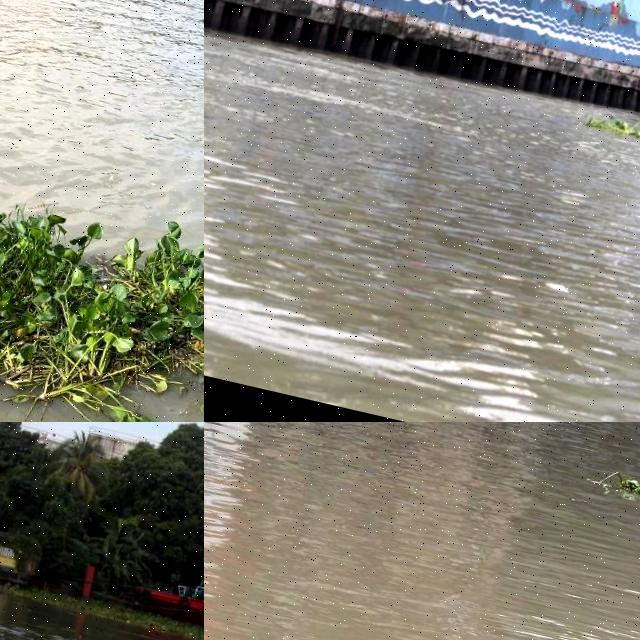water-hyacinth: (1, 211, 208, 423), (583, 105, 640, 143)
